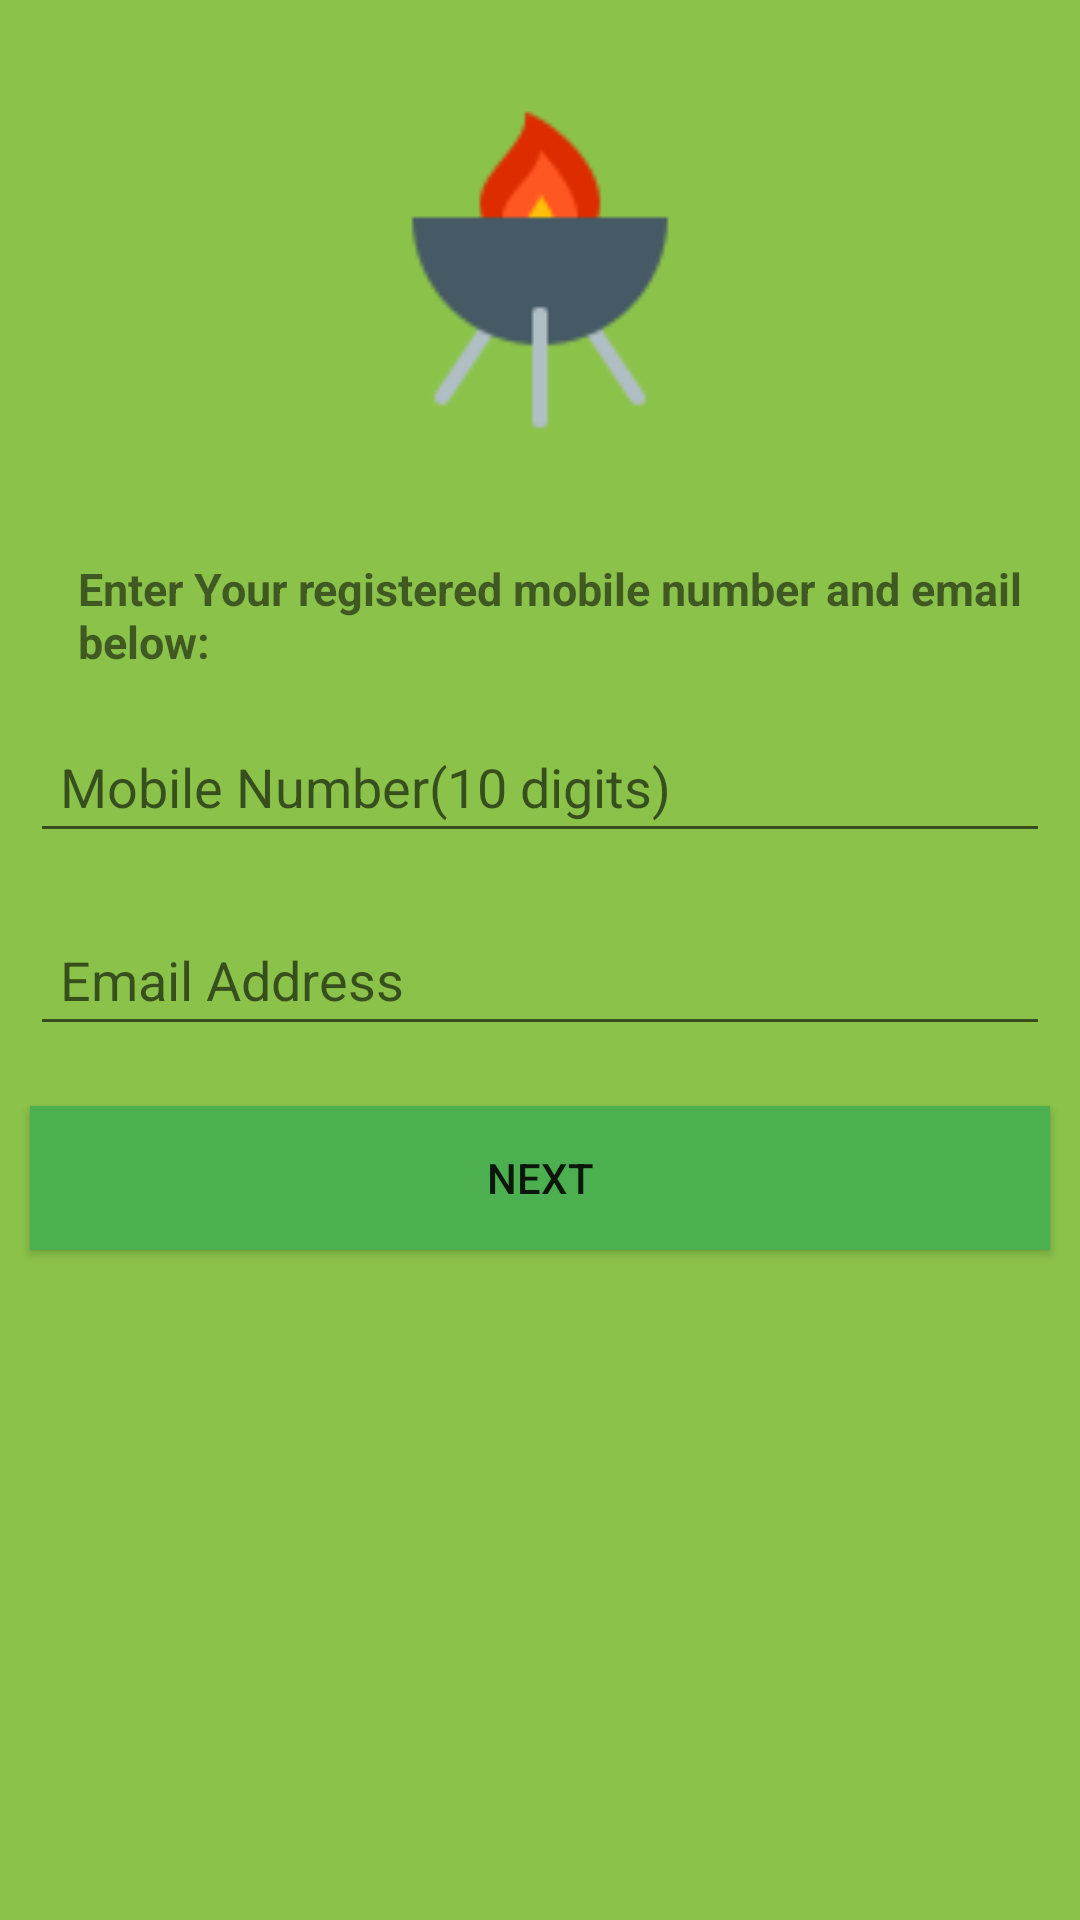

Icon click points for this 1080*1920 phone screenshot, format [x,y]:
grill: [540,270]
